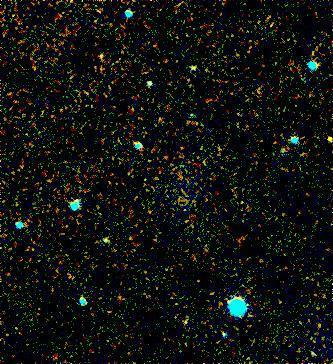star: (313, 116, 333, 146)
